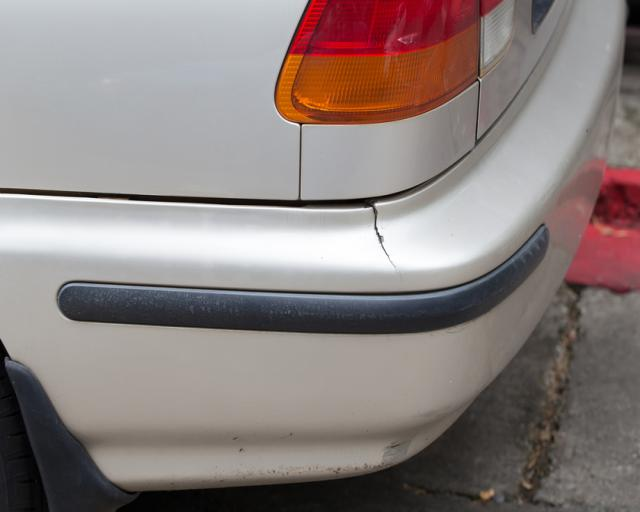crack: (368, 205, 401, 280)
